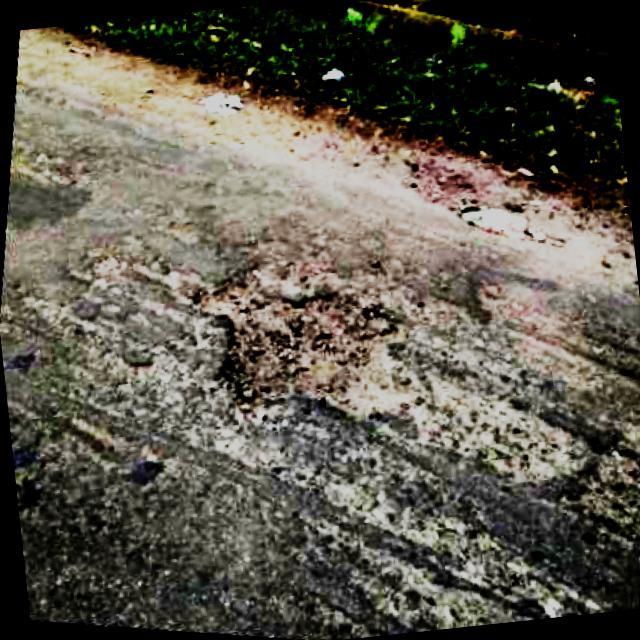pothole: (180, 246, 412, 436), (567, 420, 640, 538)
